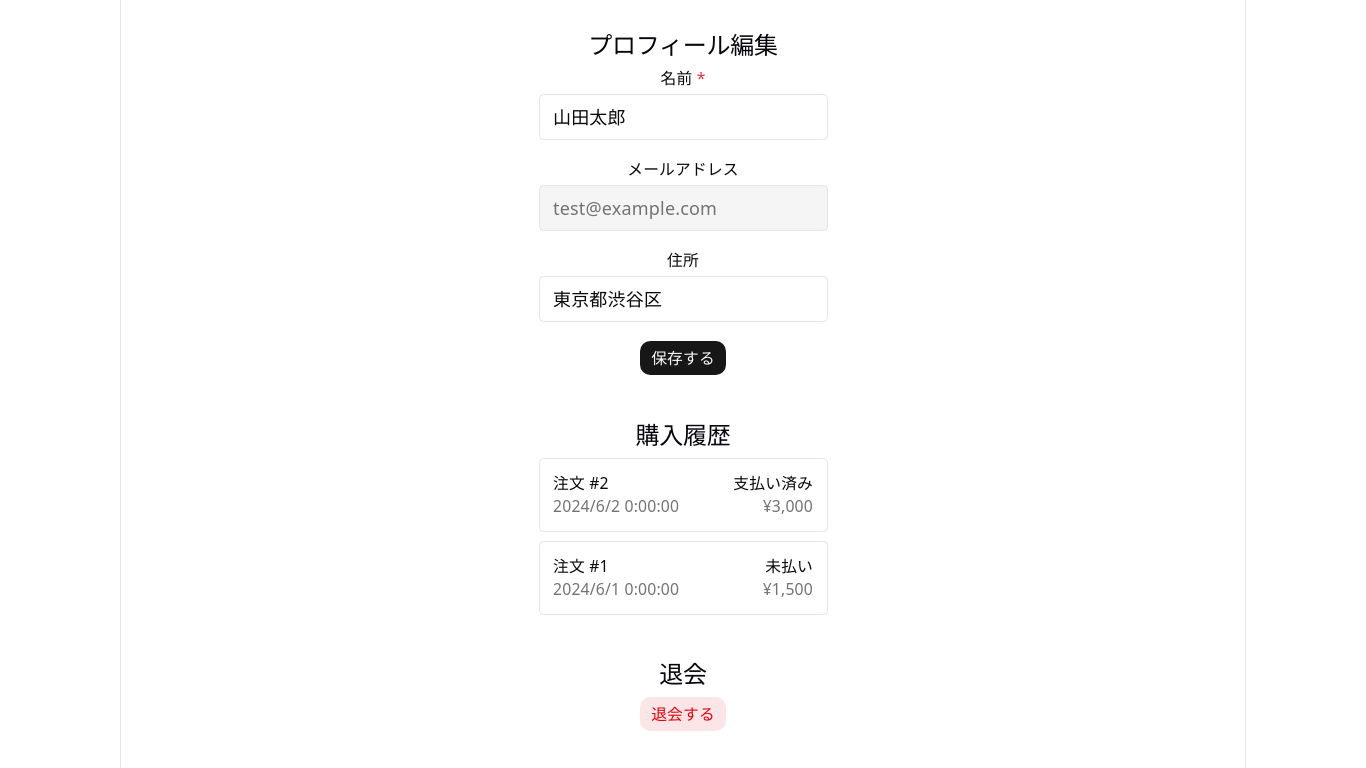
MyPage › 退会失敗時にエラーメッセージがダイアログ内に表示されること
(page scrolled)
What coordinates should you click on to do the following:
click the button "退会する"
I would click on:
 (683, 714)
Its box is [639,696,727,732].
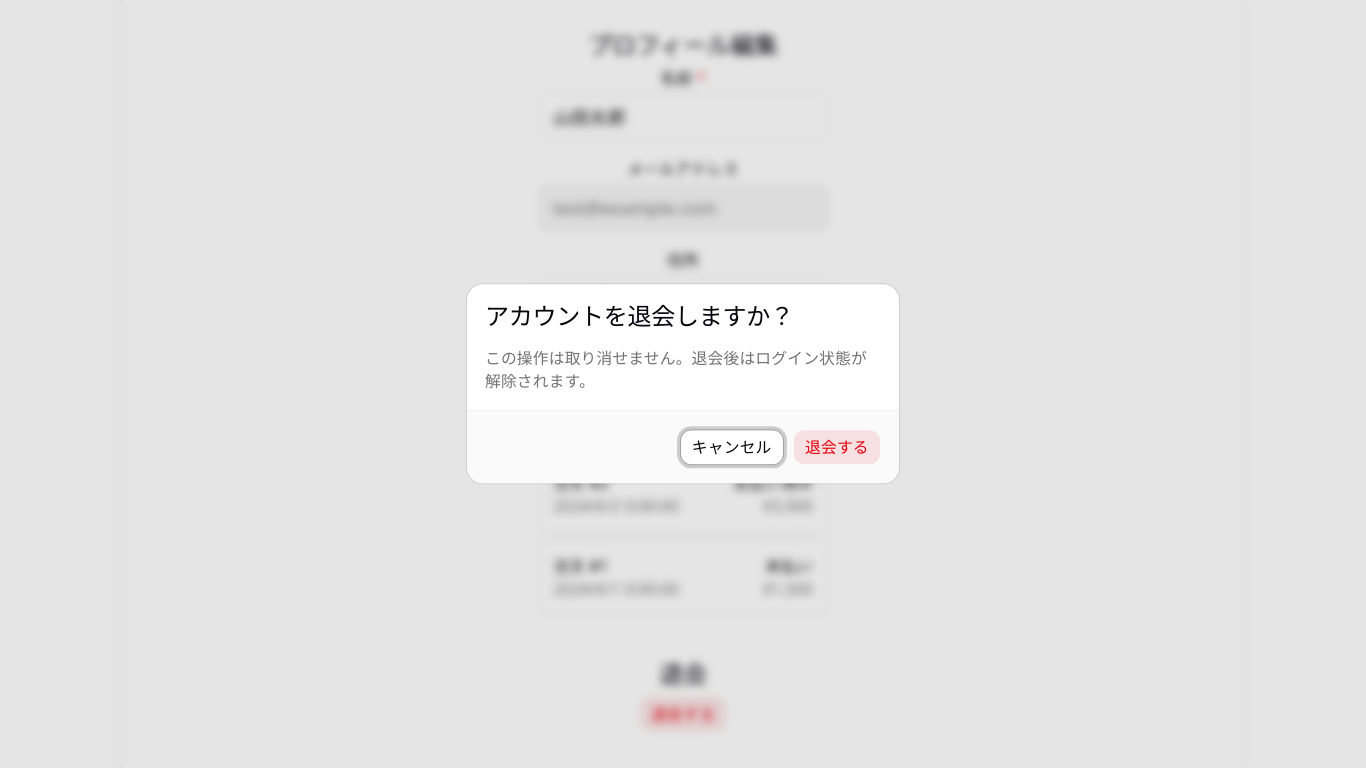
What coordinates should you click on to do the following:
click the button "退会する"
I would click on:
 (837, 448)
Its box is [793,430,881,466].
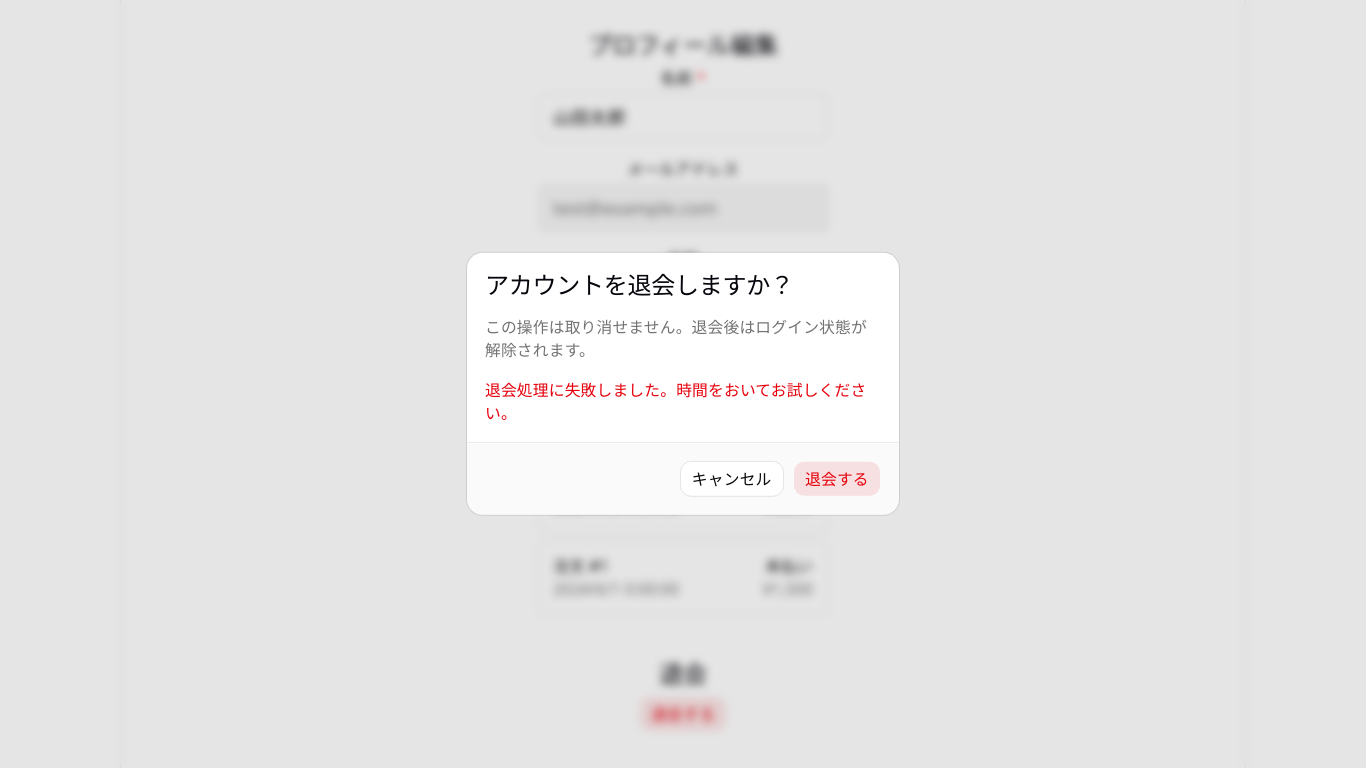
Expected: the text "退会処理に失敗しました。時間をおいてお試しください。" is shown, [485,379,881,424]
